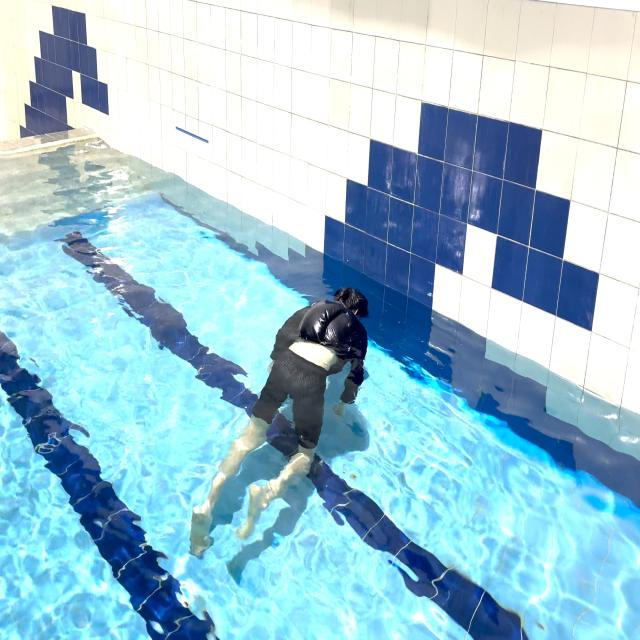Drowning: (181, 272, 378, 569)
